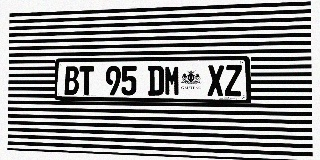5: (121, 66, 137, 95)
9: (106, 66, 121, 95)
B: (64, 66, 79, 95)
D: (148, 66, 164, 96)
M: (164, 65, 180, 96)
T: (79, 66, 94, 95)
X: (207, 65, 224, 96)
Z: (225, 65, 242, 96)
